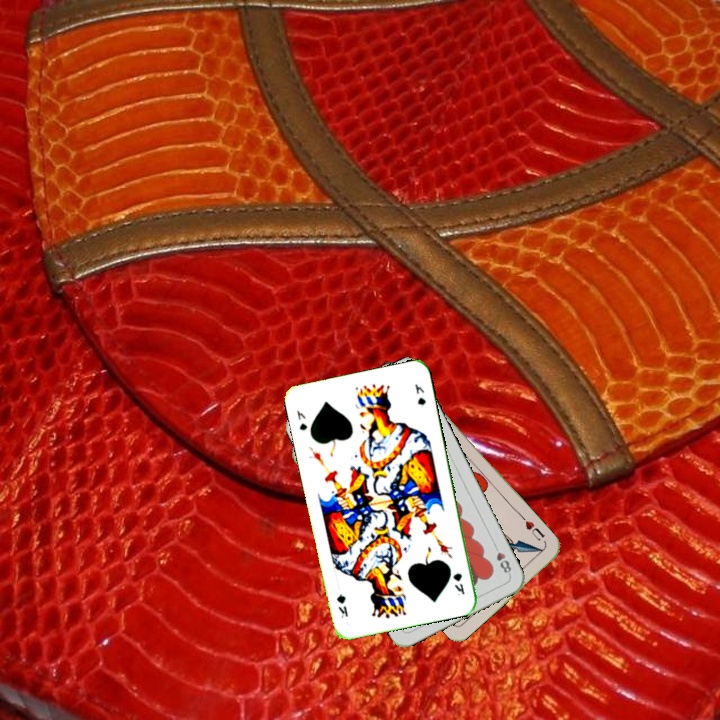GK: (449, 569, 467, 598), (292, 406, 310, 433)
H8: (489, 540, 514, 578)
HU: (518, 513, 547, 544)
